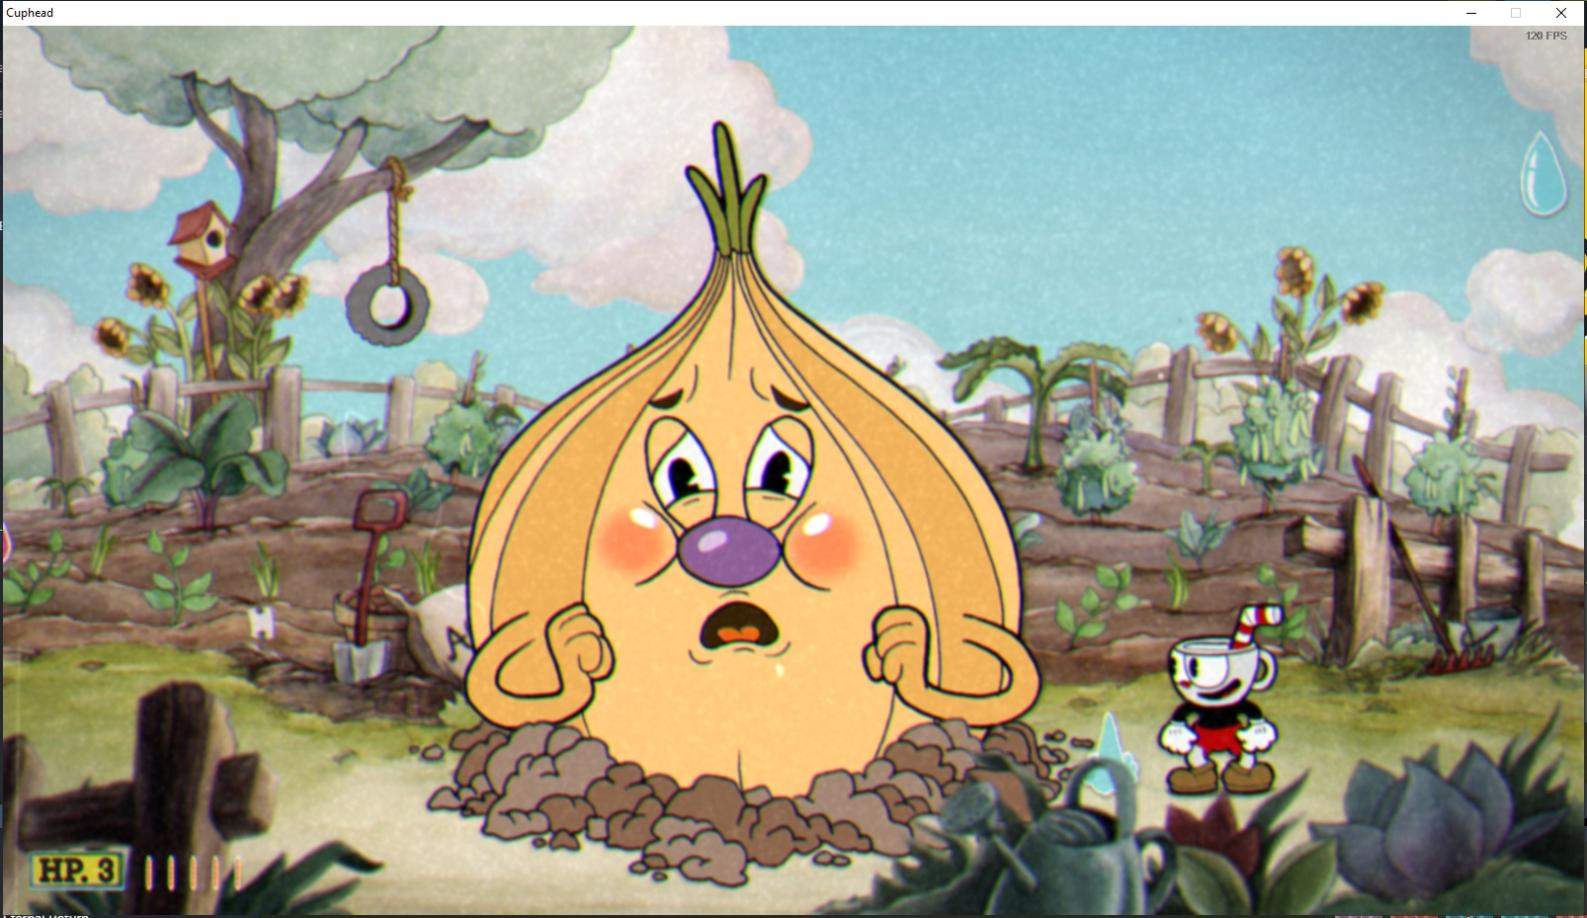hp3: (90, 853, 123, 890)
onion_boss: (454, 118, 1044, 842)
pink_rain: (0, 511, 18, 574)
player: (1154, 599, 1294, 803)
rain: (1506, 121, 1580, 226)
